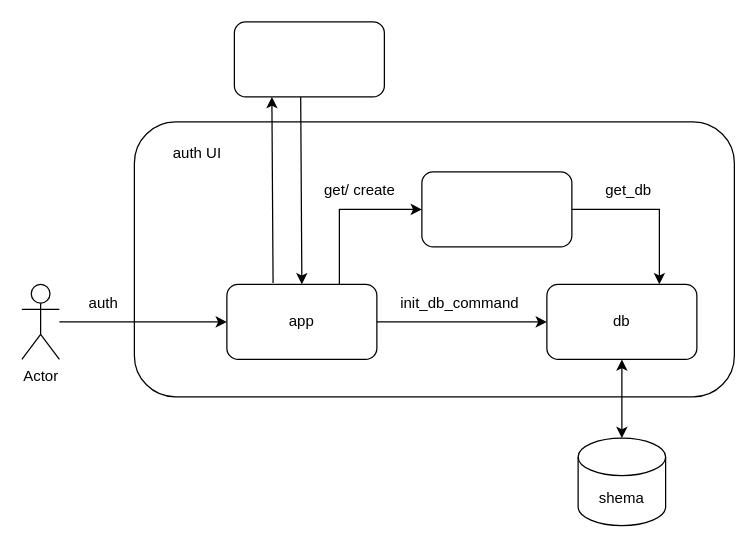
Some shapes in this 756 by 548 pixel diagram are drawn without their labels. Each missing label, with the centre of its shape:
Google services: point (308, 59)
user: point (496, 209)
